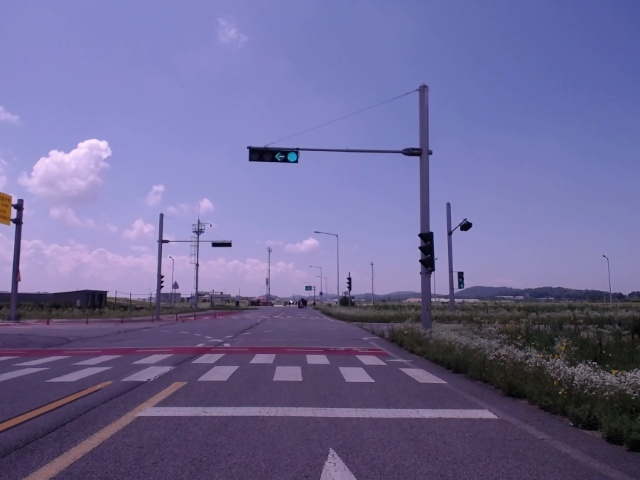all_green_4: (248, 146, 298, 163)
